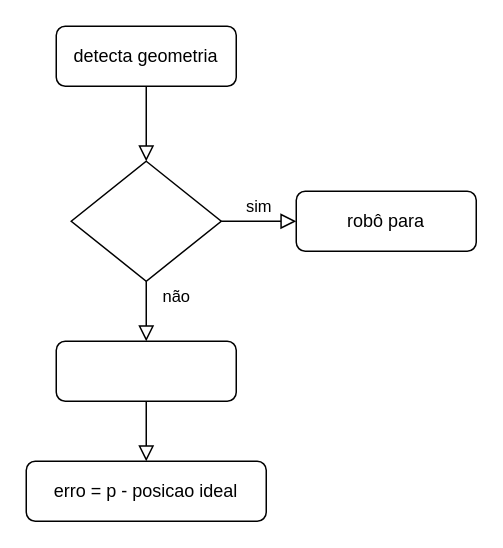
Some shapes in this 503 by 548 pixel diagram are drawn without their labels. The centre of each missing label's shape, as x and y in pixels:
"p = posicao_atual" goes at point 145,370.
"robô parado" goes at point 145,220.
